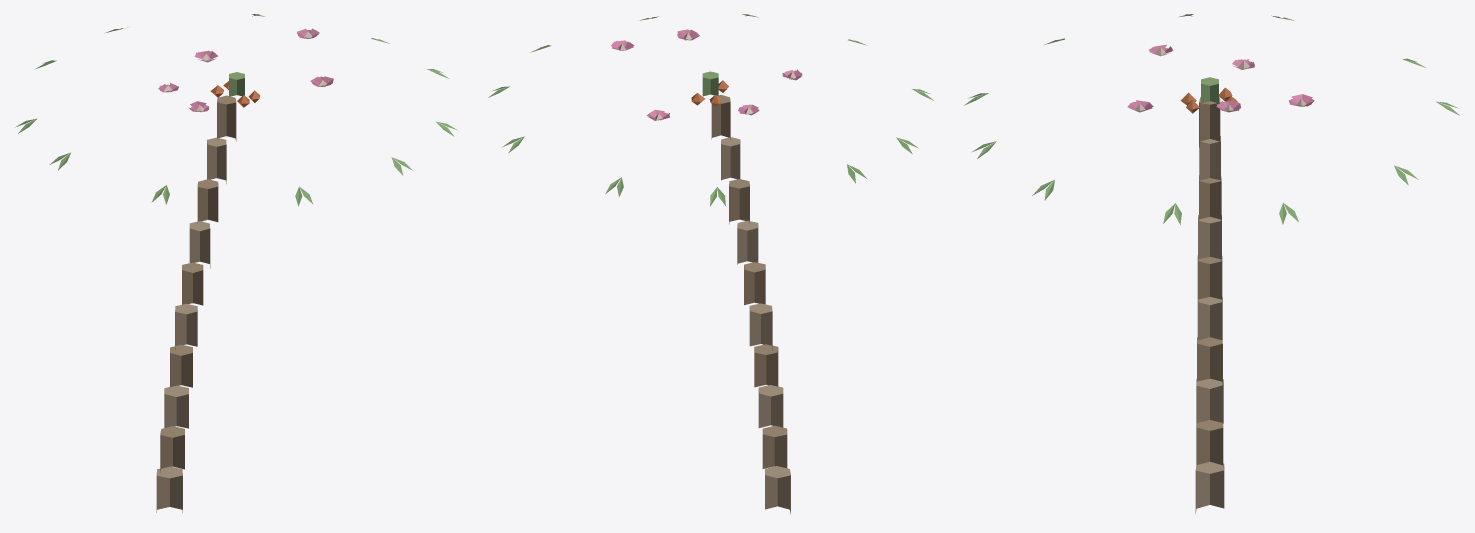
File: shu.yezi__bloom.glb
3 views of the same model, side by side, from view 1: azimuth 30°, elevation 25°; view 2: azimuth 150°, elevation 25°; view 3: azimuth 270°, elevation 25° (orthographic). The views are drawn at different scales.
Parts seen in each view (by area): view 1: shu.yezi__bloom; view 2: shu.yezi__bloom; view 3: shu.yezi__bloom.
Boxes of the visible parts, x1,y1,x2,y2 form: shu.yezi__bloom: (15, 14, 457, 512); shu.yezi__bloom: (488, 14, 933, 514); shu.yezi__bloom: (964, 14, 1459, 513).
Bounding box in the file's own units: 11.27 × 12.13 × 11.23.
